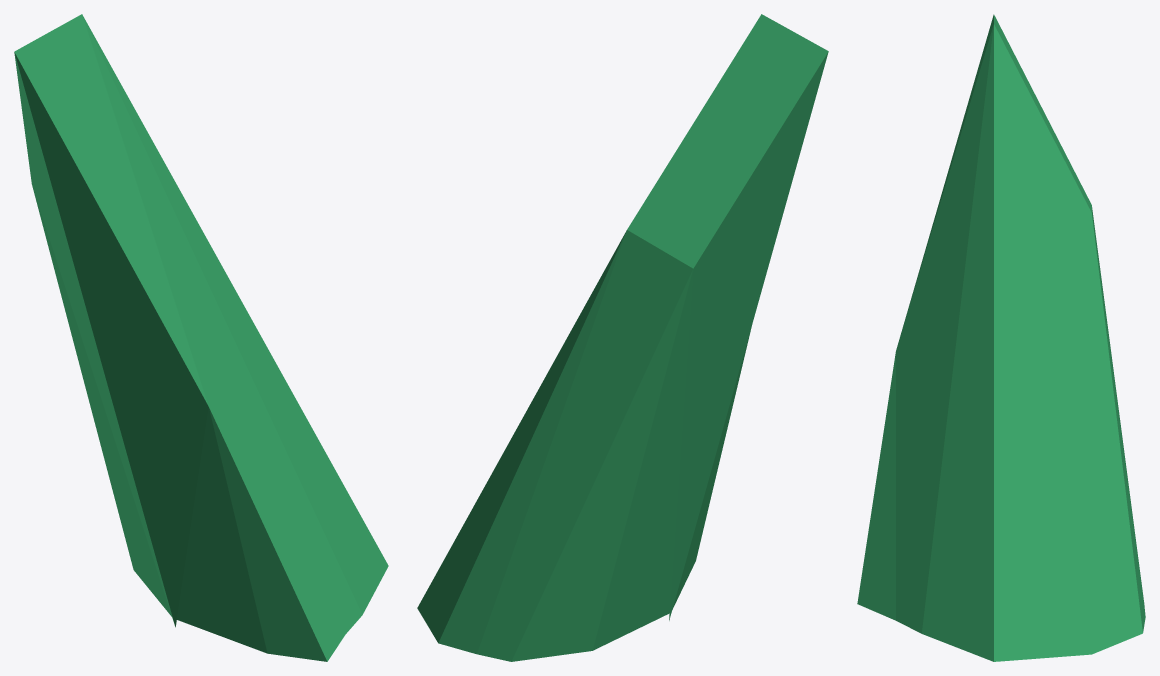
The model's file is Rock_Medium_Gem_Jade_Emerald_Spike_01.FBX.
3 views of the same model, side by side, from view 1: azimuth 30°, elevation 25°; view 2: azimuth 150°, elevation 25°; view 3: azimuth 270°, elevation 25° (orthographic). The views are drawn at different scales.
Visible parts, largest first — view 1: Rock_Medium_Gem_Jade_Emerald_Spike_01; view 2: Rock_Medium_Gem_Jade_Emerald_Spike_01; view 3: Rock_Medium_Gem_Jade_Emerald_Spike_01.
Boxes of the visible parts, box(x1,y1,x2,y2) form: Rock_Medium_Gem_Jade_Emerald_Spike_01: box(14, 14, 388, 661); Rock_Medium_Gem_Jade_Emerald_Spike_01: box(417, 14, 828, 661); Rock_Medium_Gem_Jade_Emerald_Spike_01: box(857, 14, 1145, 661).
Bounding box in the file's own units: 2923 × 4751 × 2372.
